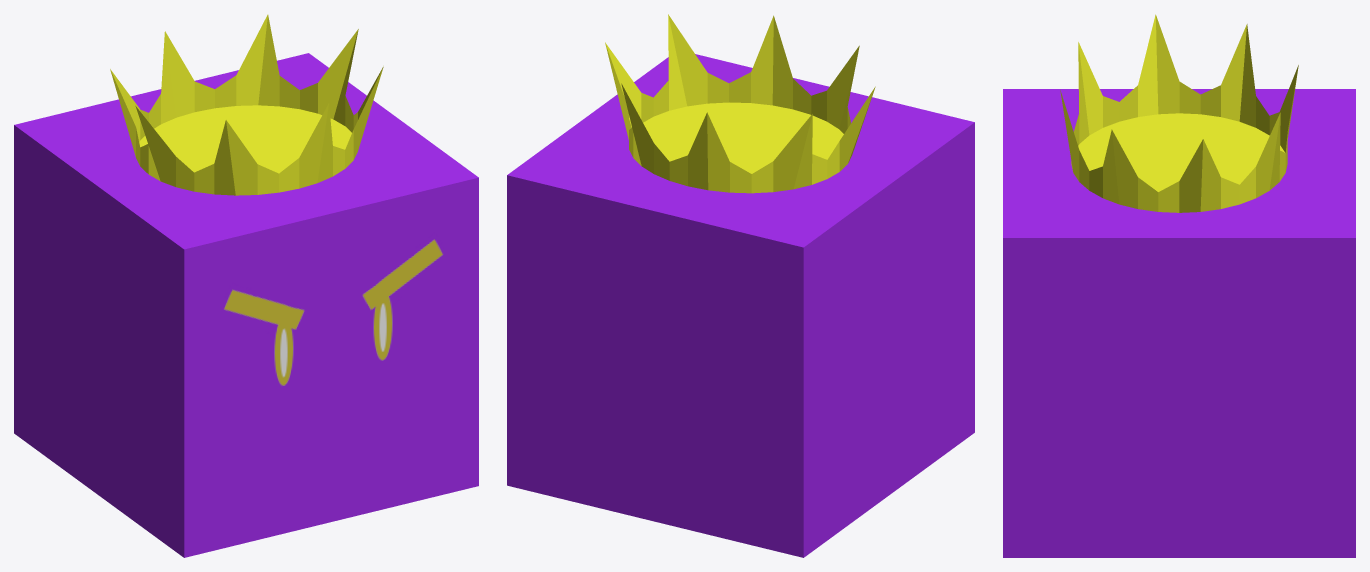
The model's file is boss.obj.
3 views of the same model, side by side, from view 1: azimuth 30°, elevation 25°; view 2: azimuth 150°, elevation 25°; view 3: azimuth 270°, elevation 25° (orthographic). The views are drawn at different scales.
Visible parts, largest first — view 1: 円柱.002; view 2: 円柱.002; view 3: 円柱.002.
Boxes of the visible parts, <box> form: 円柱.002: <box>14,14,478,557</box>; 円柱.002: <box>507,14,974,557</box>; 円柱.002: <box>1003,14,1355,557</box>.
Size of the model in its own units: 2 by 2.55 by 2.
Materials: 2 (2 with a texture image).
